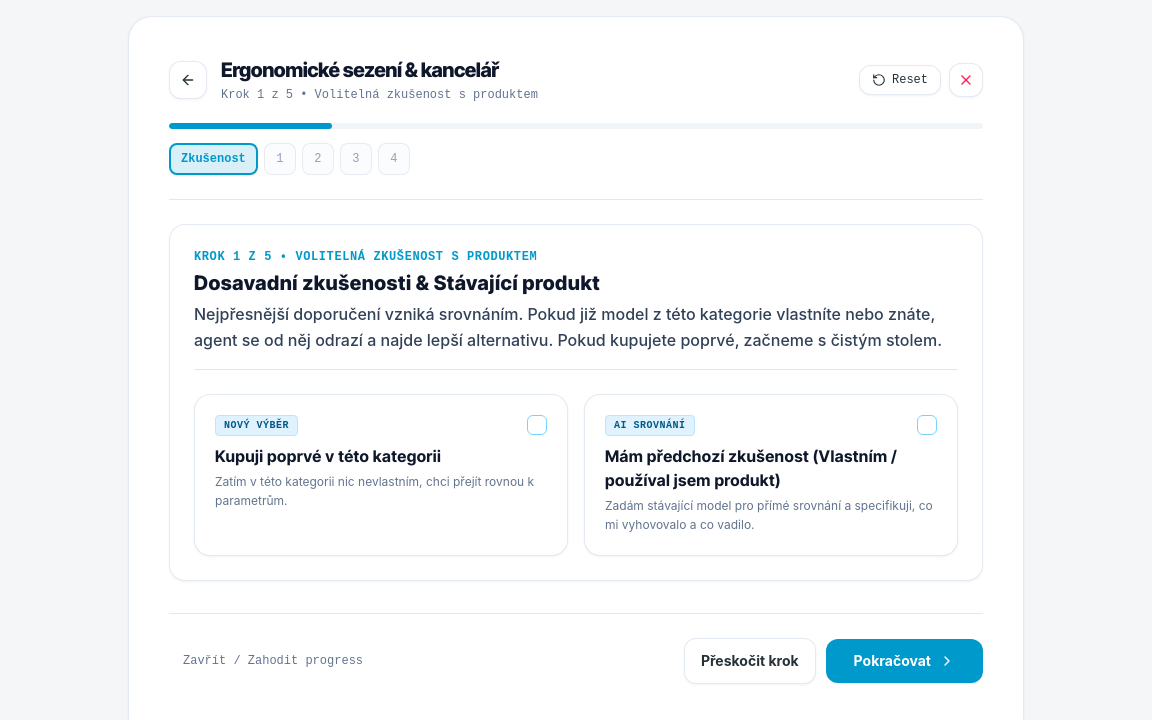
Test: DynamicAgentWizard Unit Test Suite (PRD v1) › 2. Umožňuje procházet kroky a v posledním kroku zobrazí tlačítko pro dokončení a sestavení agenta
Click the button "Pokračovat": (904, 660) [826,638,983,682]
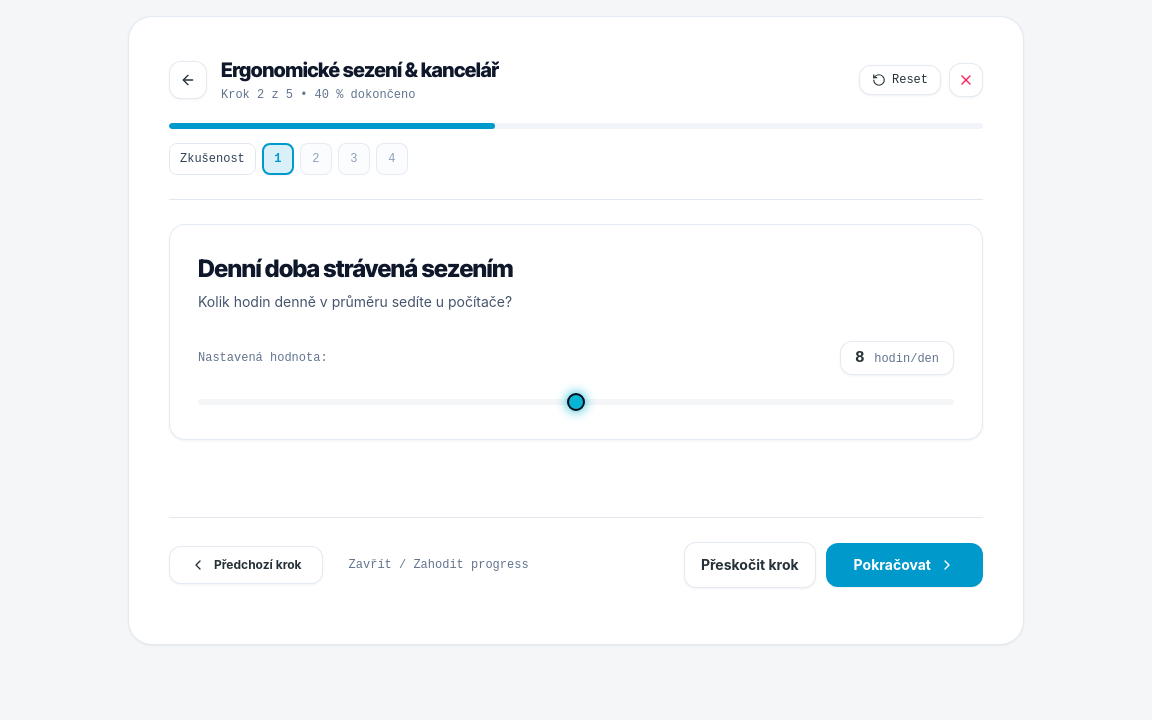
Click the button "Pokračovat": (904, 564) [826,542,983,586]
(page scrolled)
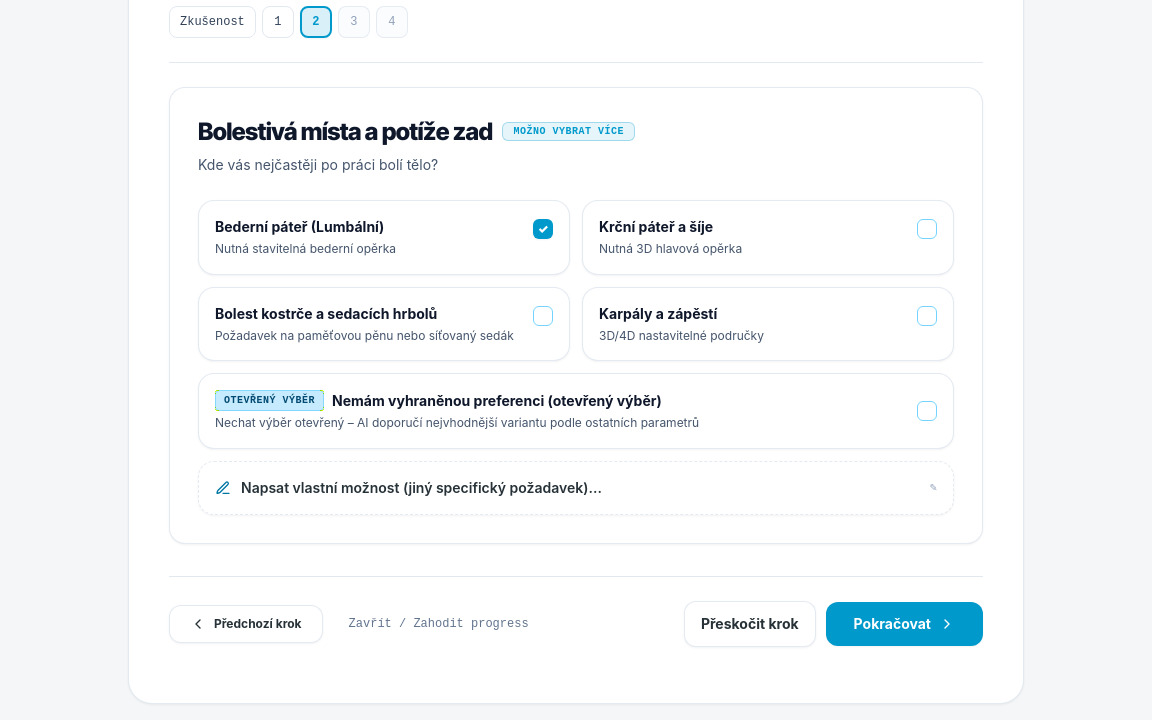
Click the button "Pokračovat": (904, 624) [826,602,983,646]
(page scrolled)
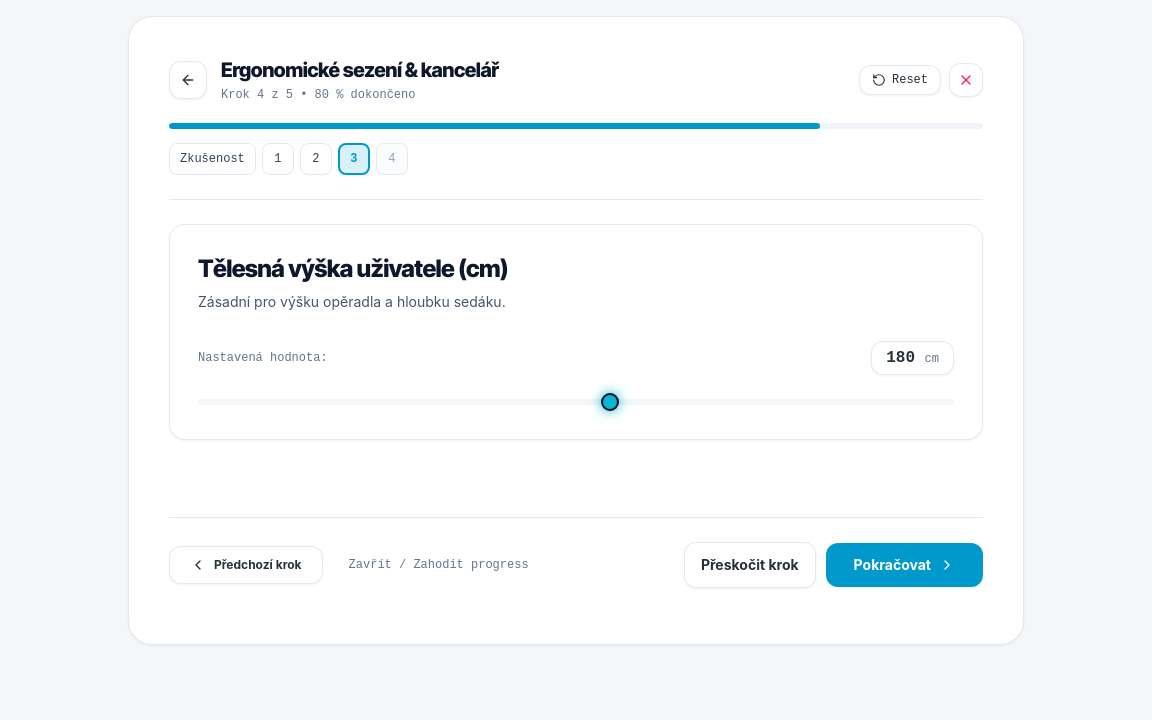
Click the button "Pokračovat": (904, 564) [826,542,983,586]
(page scrolled)
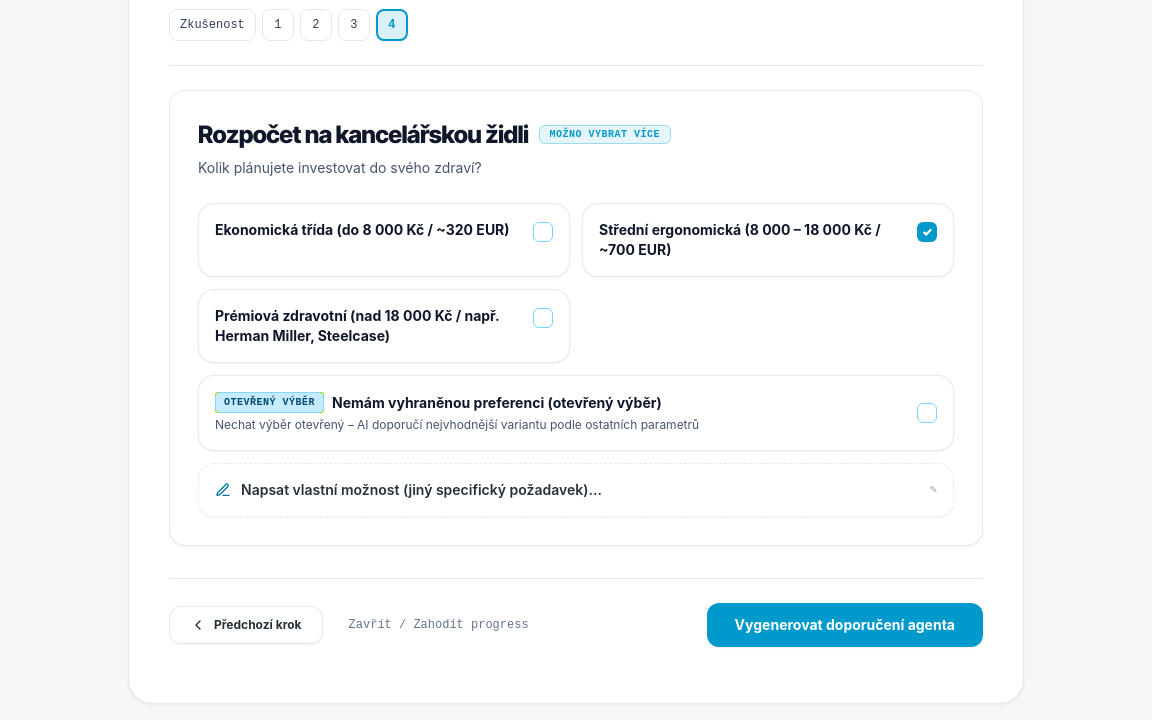
Expected: the button "Vygenerovat doporučení agenta" is shown, [707,603,983,647]
